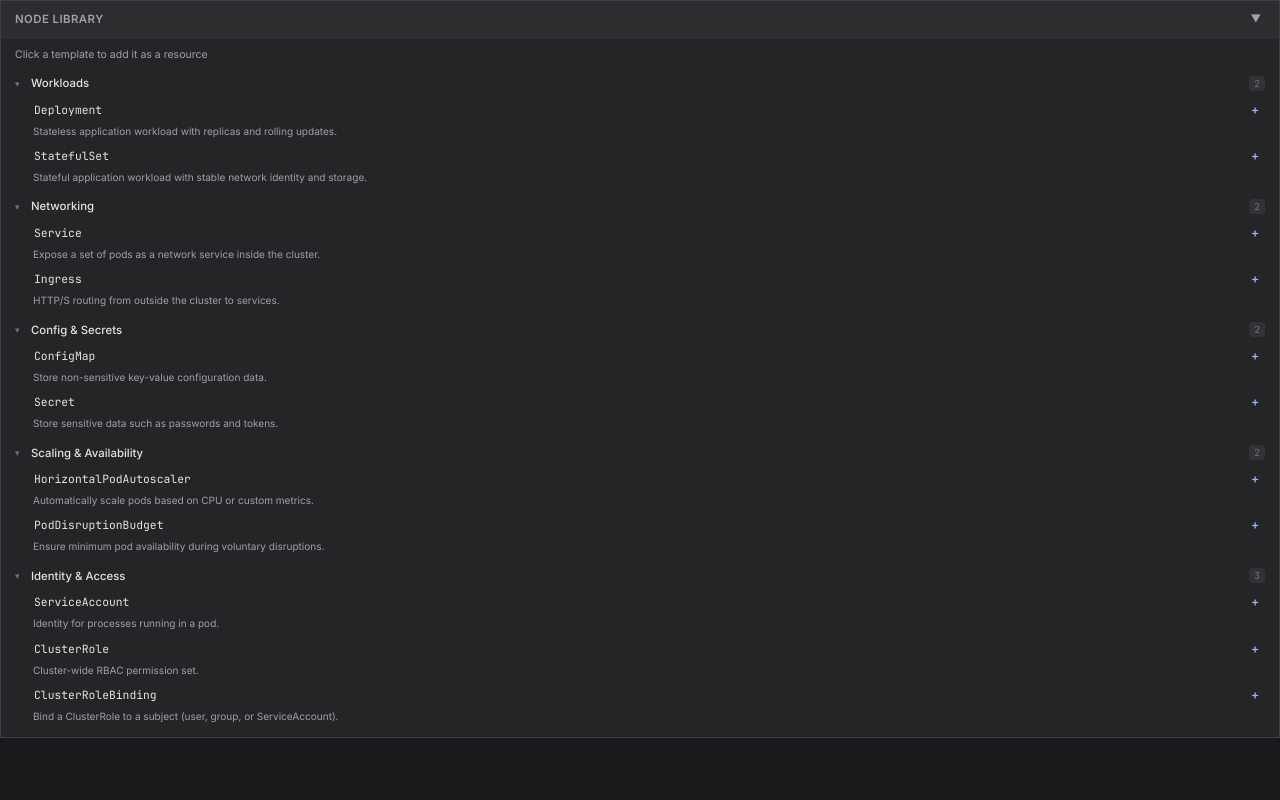
Test: NodeLibrary › toggles a category closed on click
Note: Click "Workloads" category header to collapse it
What coordinates should you click on to do the following:
click the button "▾ Workloads 2"
I would click on:
 (60, 83)
Its box is [1,71,1279,96].
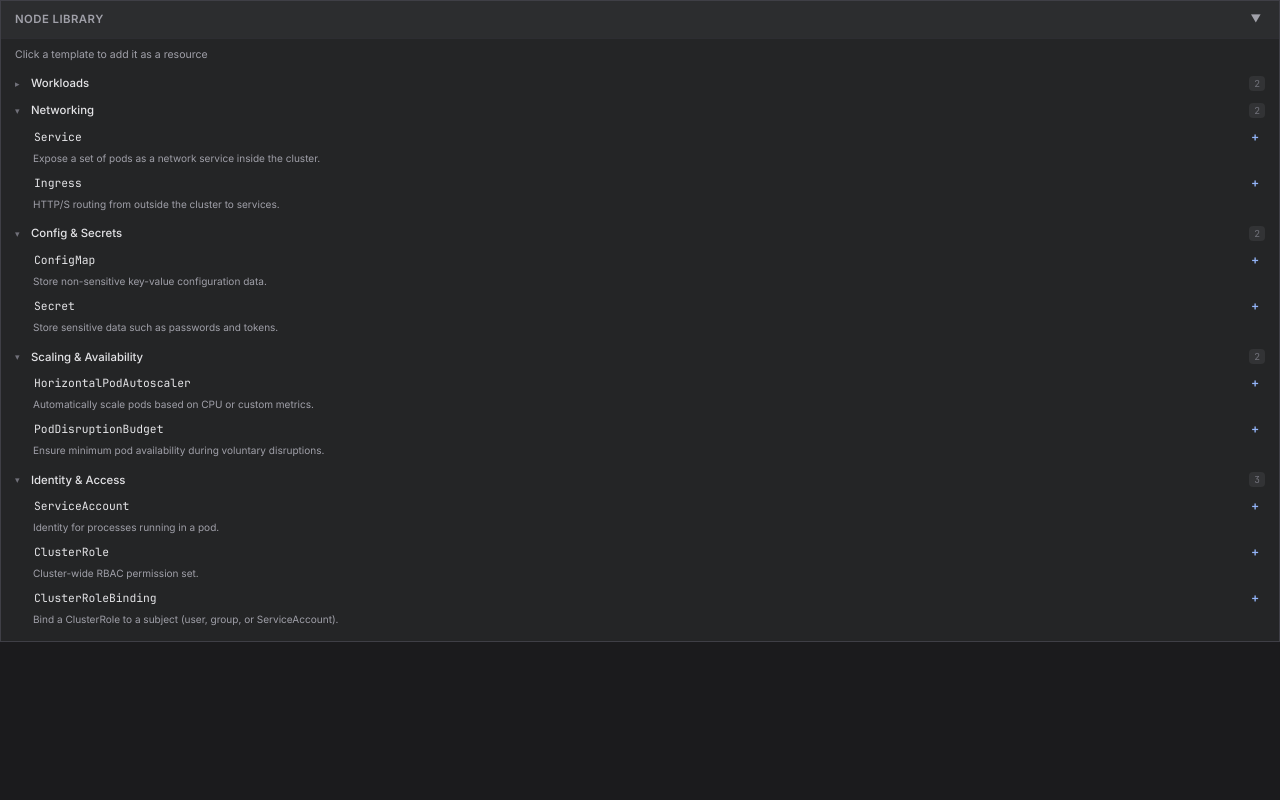
expect the button with test id "node-library-add-Deployment" is gone: met
